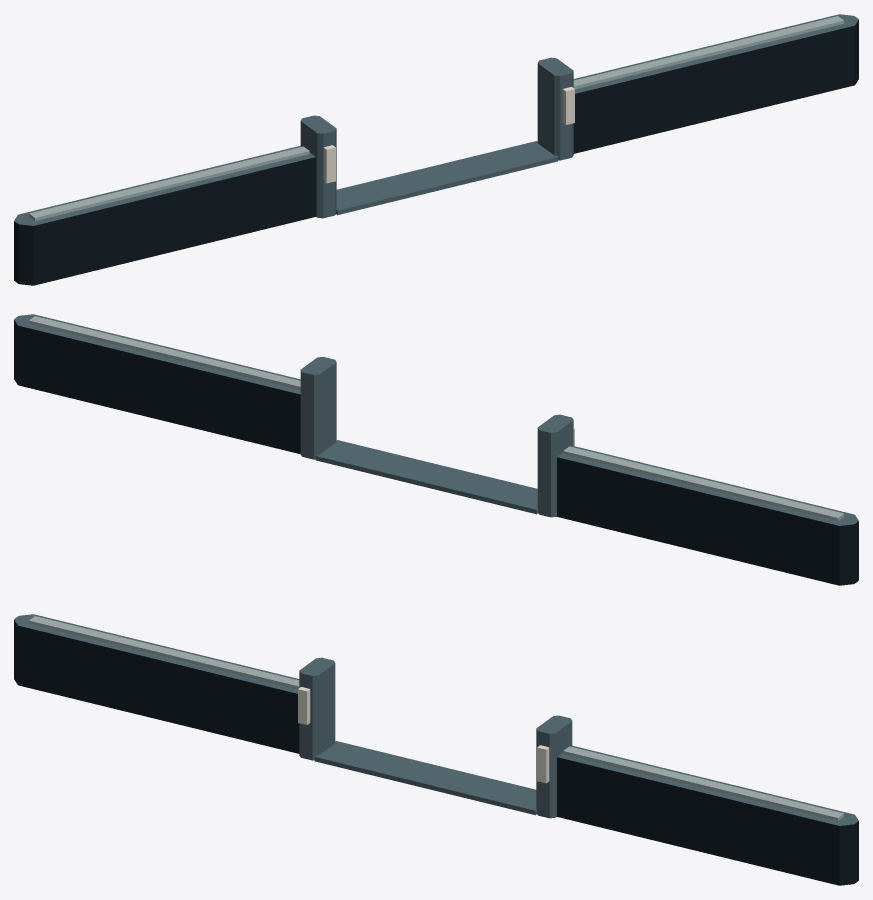
Rendered from wall-profile.glb.
The picture shows the model from 3 angles, top to bottom: view 1: azimuth 30°, elevation 25°; view 2: azimuth 150°, elevation 25°; view 3: azimuth 330°, elevation 25°; orthographic projection.
Visible parts, largest first — view 1: wall-profile; view 2: wall-profile; view 3: wall-profile.
Boxes of the visible parts, x1=… form: wall-profile: x1=14, y1=14, x2=858, y2=285; wall-profile: x1=14, y1=314, x2=858, y2=585; wall-profile: x1=14, y1=614, x2=858, y2=885.
Bounding box in the file's own units: 7.8 × 0.75 × 0.3975.
